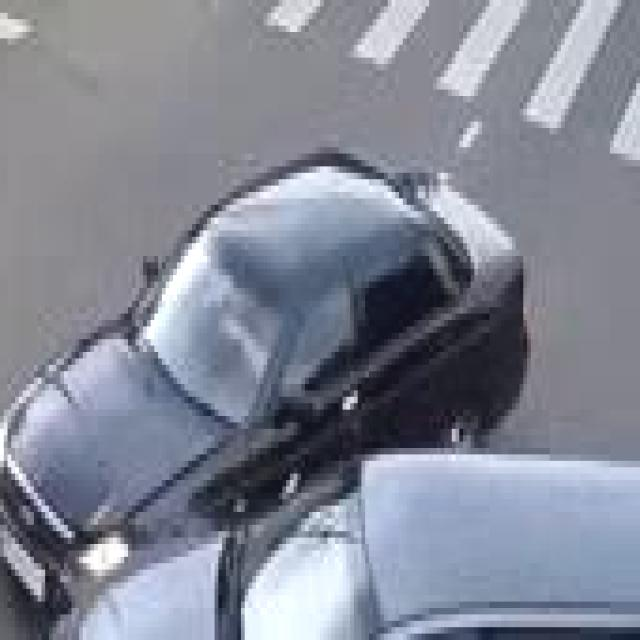accident: (0, 148, 640, 640)
